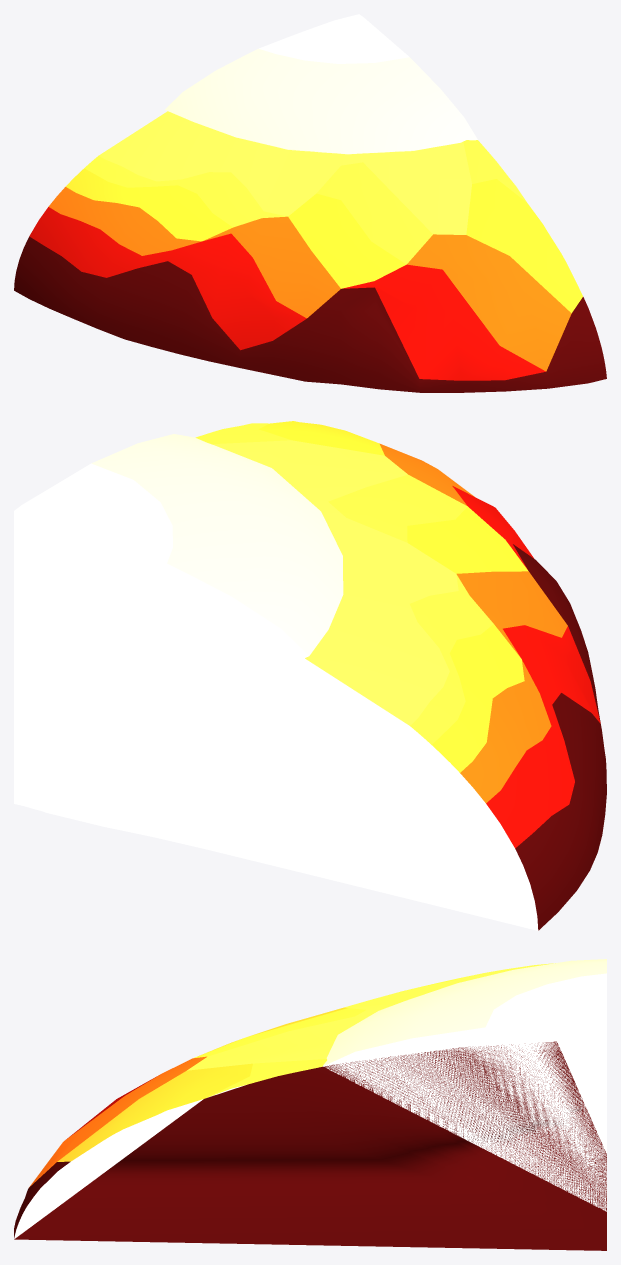
The model's file is shot_megacannon_b115.glb.
3 views of the same model, one above another, from view 1: azimuth 30°, elevation 25°; view 2: azimuth 150°, elevation 25°; view 3: azimuth 270°, elevation 25° (orthographic). The views are drawn at different scales.
Visible parts, largest first — view 1: megacannon_blast_yellow_b115, megacannon_blast_core_yellow_b115; view 2: megacannon_blast_yellow_b115, megacannon_blast_core_yellow_b115; view 3: megacannon_blast_yellow_b115, megacannon_blast_core_yellow_b115.
Part boxes in pixels (<box>): megacannon_blast_yellow_b115: <box>14,111,606,392</box>; megacannon_blast_core_yellow_b115: <box>165,14,477,154</box>; megacannon_blast_yellow_b115: <box>14,421,606,930</box>; megacannon_blast_core_yellow_b115: <box>14,434,343,757</box>; megacannon_blast_yellow_b115: <box>14,963,606,1250</box>; megacannon_blast_core_yellow_b115: <box>322,959,606,1211</box>.
Bounding box in the file's own units: 11.06 × 5.93 × 13.76.
